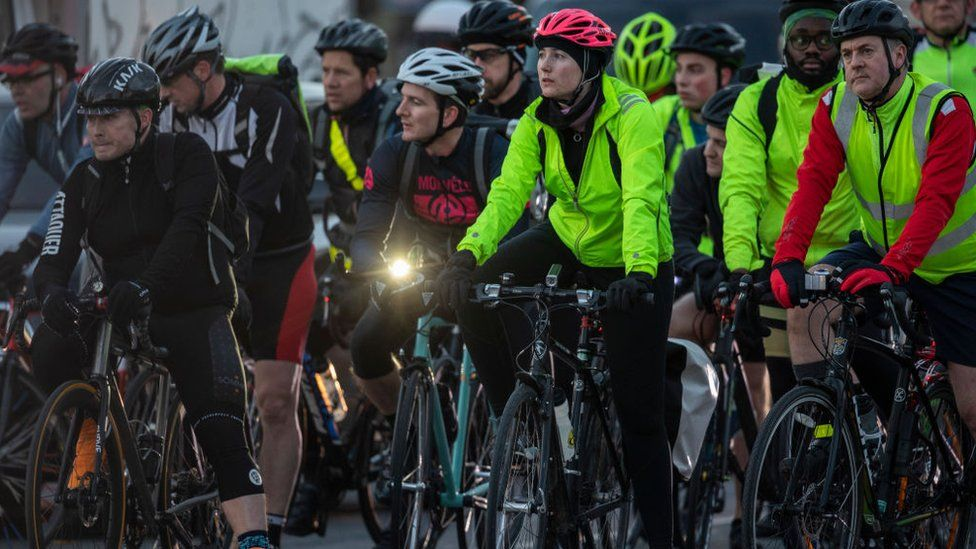helmet: (141, 4, 226, 115), (75, 57, 162, 161), (395, 46, 482, 141), (830, 1, 914, 99), (1, 21, 80, 121), (533, 8, 617, 98), (458, 1, 534, 99), (314, 18, 389, 111), (670, 21, 747, 109)
